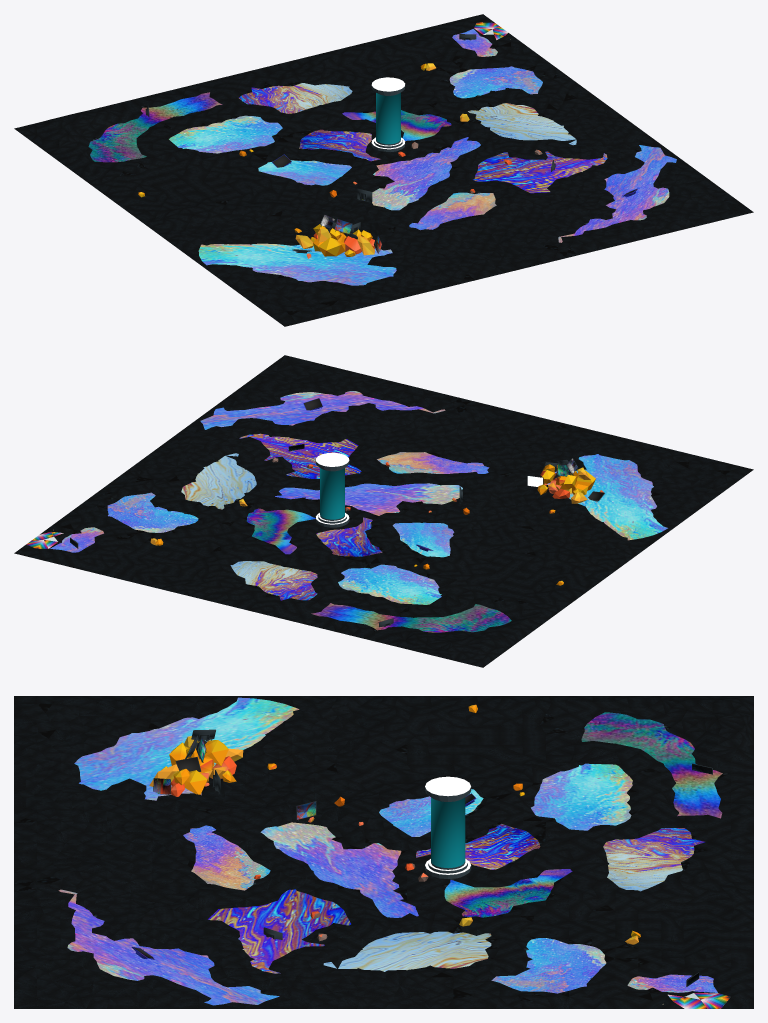
File: level1_v3.glb
The picture shows the model from 3 angles, top to bottom: view 1: azimuth 30°, elevation 25°; view 2: azimuth 150°, elevation 25°; view 3: azimuth 270°, elevation 25°; orthographic projection. The views are drawn at different scales.
Visible parts, largest first — view 1: Plane; view 2: Plane; view 3: Plane.
Boxes of the visible parts, x1=… form: Plane: x1=14, y1=14, x2=753, y2=326; Plane: x1=14, y1=355, x2=753, y2=667; Plane: x1=14, y1=696, x2=753, y2=1008.
Size of what is drawn, in the model's own units: 31.96 by 4.28 by 31.96.
7 materials, 7 textured.
